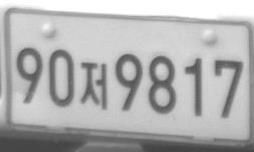0: (47, 48, 75, 107)
1: (181, 57, 210, 117)
7: (214, 59, 244, 119)
8: (147, 54, 177, 114)
9: (113, 52, 143, 111), (15, 46, 44, 103)
저: (79, 61, 108, 111)
